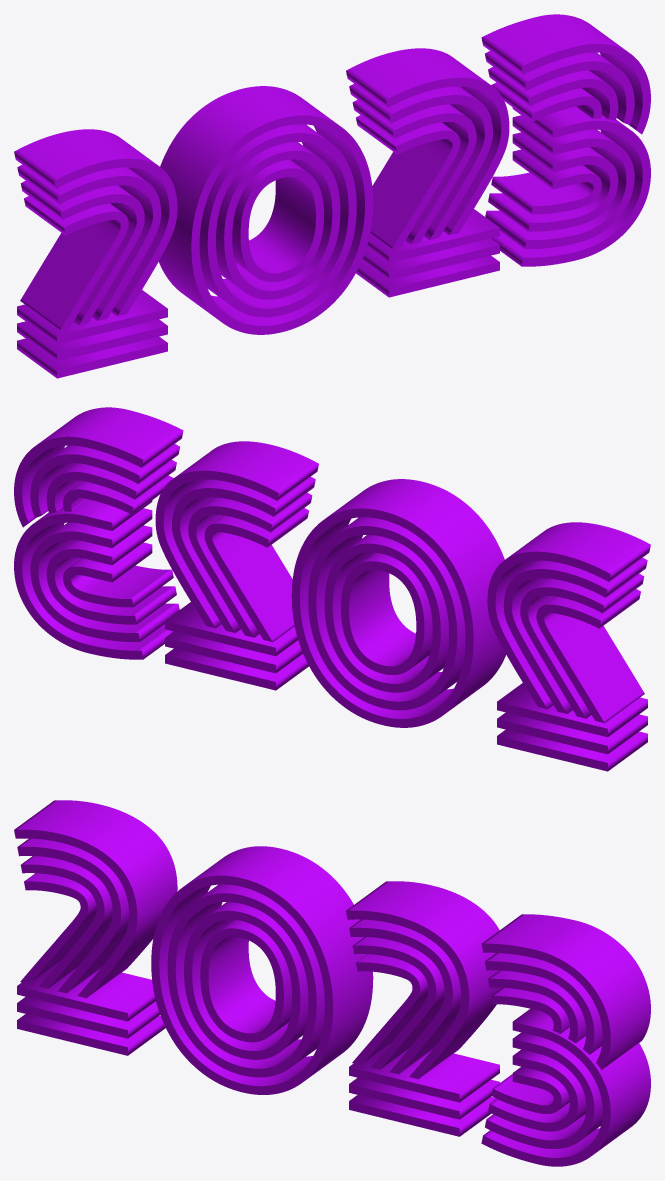
Rendered from newyear2023.glb.
The picture shows the model from 3 angles, top to bottom: view 1: azimuth 30°, elevation 25°; view 2: azimuth 150°, elevation 25°; view 3: azimuth 330°, elevation 25°; orthographic projection.
Parts seen in each view (by area): view 1: 2023; view 2: 2023; view 3: 2023.
Part boxes in pixels (bbox=[...]): 2023: bbox=[14, 14, 650, 378]; 2023: bbox=[14, 407, 650, 771]; 2023: bbox=[14, 800, 650, 1166].
Bounding box in the file's own units: 2.06 × 0.7057 × 0.24.
